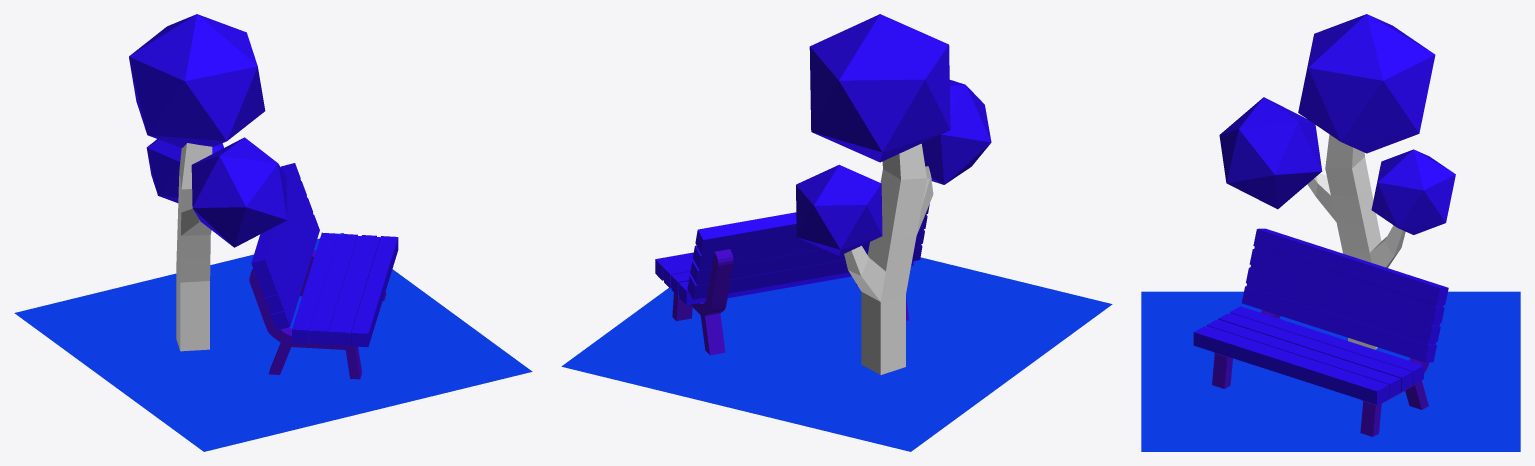
File: small park_blue.fbx
3 renders of one model, left to right at view 1: azimuth 30°, elevation 25°; view 2: azimuth 150°, elevation 25°; view 3: azimuth 270°, elevation 25°, orthographic. The views are drawn at different scales.
Visible parts, largest first — view 1: Plane, Icosphere.007, Cube.023; view 2: Plane, Icosphere.007, Cube.023; view 3: Plane, Icosphere.007, Cube.023.
Part boxes in pixels (box(x1,y1,x2,y2)): Plane: box(14, 233, 532, 451); Icosphere.007: box(129, 14, 287, 351); Cube.023: box(249, 163, 398, 379); Plane: box(561, 257, 1112, 451); Icosphere.007: box(796, 14, 991, 374); Cube.023: box(655, 204, 929, 355); Plane: box(1141, 291, 1520, 451); Icosphere.007: box(1219, 14, 1455, 349); Cube.023: box(1193, 228, 1448, 436).
Size of the model in its own units: 500 by 499 by 500.
